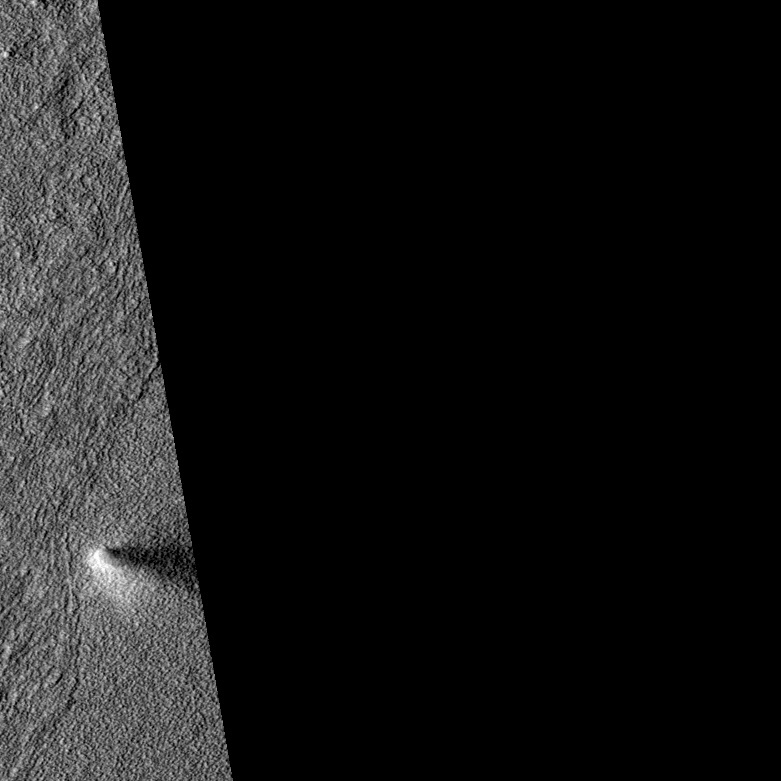dust_devil: (83, 542, 198, 608)
